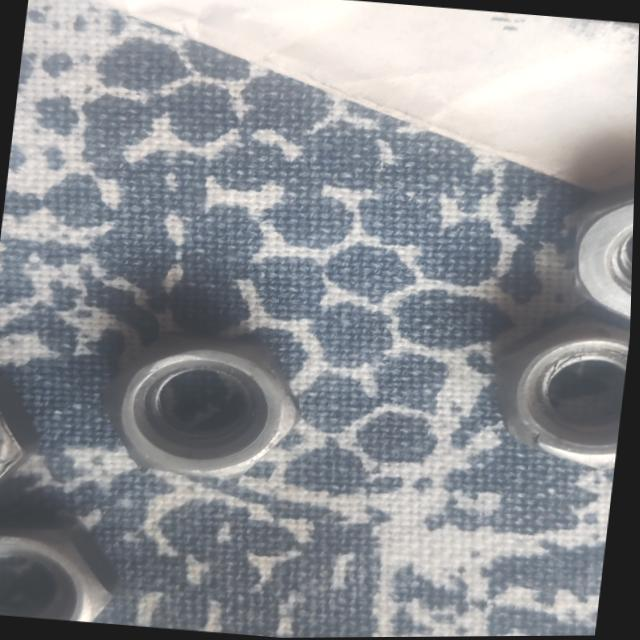disinfected nut: (103, 335, 300, 476), (495, 317, 632, 468), (0, 517, 121, 622), (568, 182, 636, 319), (0, 373, 42, 482)
